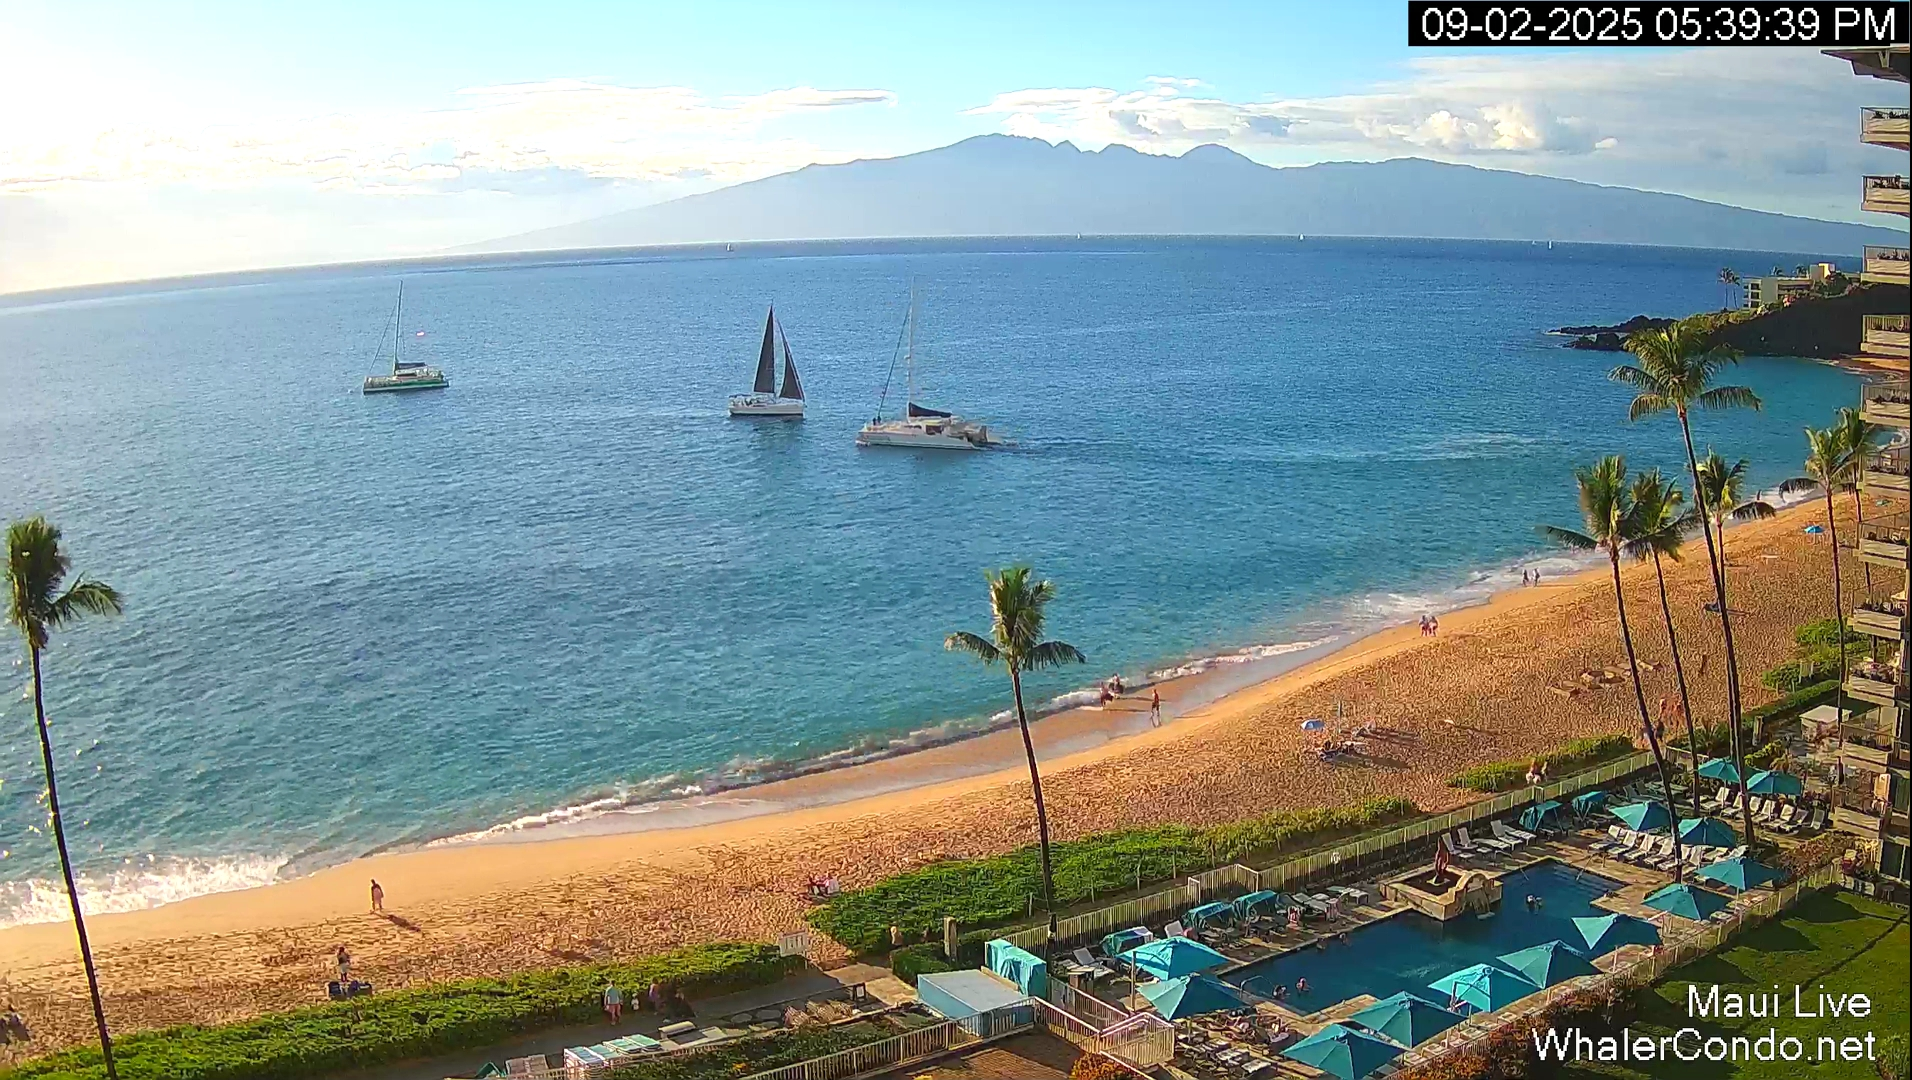boat: (855, 274, 1050, 453), (362, 280, 449, 395), (444, 1033, 640, 1080), (727, 304, 807, 417), (1298, 233, 1305, 242)
person: (385, 950, 410, 989), (604, 979, 623, 1026), (664, 978, 681, 1022), (335, 946, 351, 983), (370, 878, 385, 912), (648, 978, 660, 1013), (1151, 689, 1161, 716), (1418, 615, 1429, 637), (1428, 616, 1440, 636), (1533, 568, 1541, 588), (1522, 569, 1530, 586)
